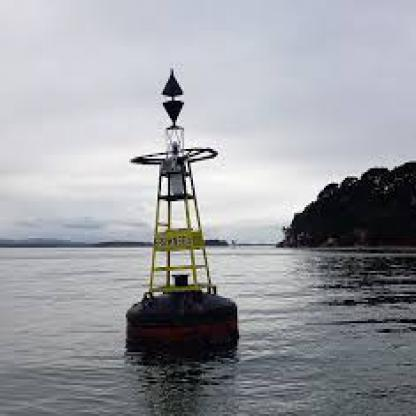buoy: (113, 60, 246, 368)
